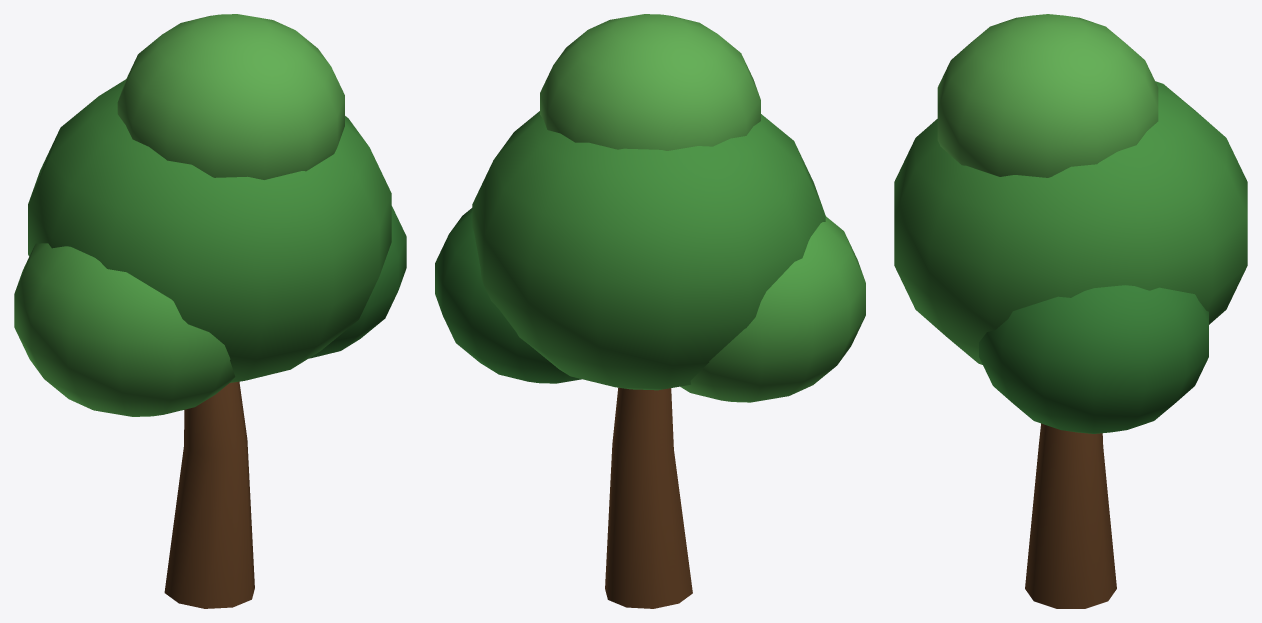
Rendered from arvore.glb.
3 renders of one model, left to right at view 1: azimuth 30°, elevation 25°; view 2: azimuth 150°, elevation 25°; view 3: azimuth 270°, elevation 25°, orthographic. The views are drawn at different scales.
Parts seen in each view (by area): view 1: corpo; view 2: corpo; view 3: corpo.
Part boxes in pixels (<box>): corpo: <box>14,14,406,608</box>; corpo: <box>435,14,865,608</box>; corpo: <box>894,14,1247,608</box>.
Size of the model in its own units: 1.92 by 2.73 by 1.54.
